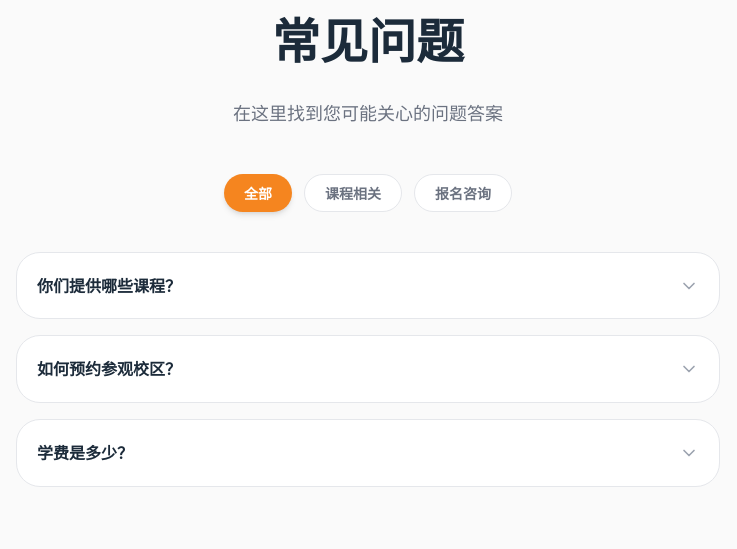
Test: FaqPage 页面 › 再次点击同一问题收起答案
Expected: the text "你们提供哪些课程？" is shown, left=37, top=273, right=181, bottom=298
Click the button "你们提供哪些课程？" at (109, 285), box left=17, top=253, right=719, bottom=318
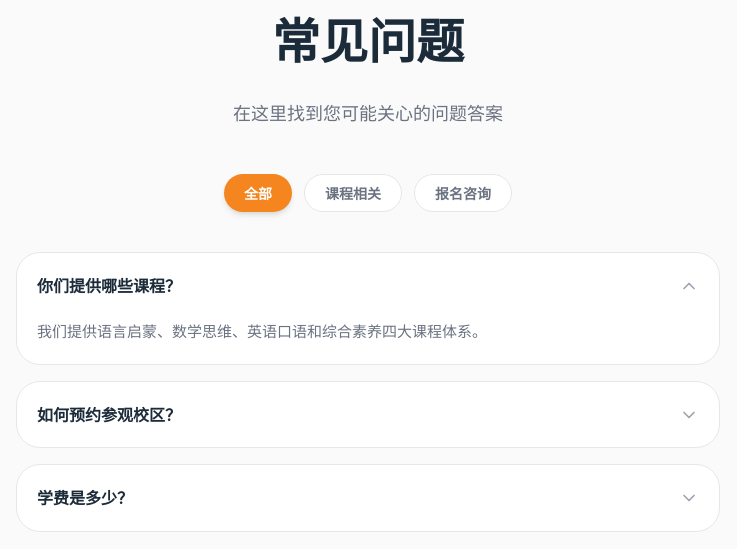
Expected: the text "我们提供语言启蒙、数学思维、英语口语和综合素养四大课程体系。" is shown, left=37, top=320, right=487, bottom=341
Click the button "你们提供哪些课程？" at (109, 285), box left=17, top=253, right=719, bottom=318
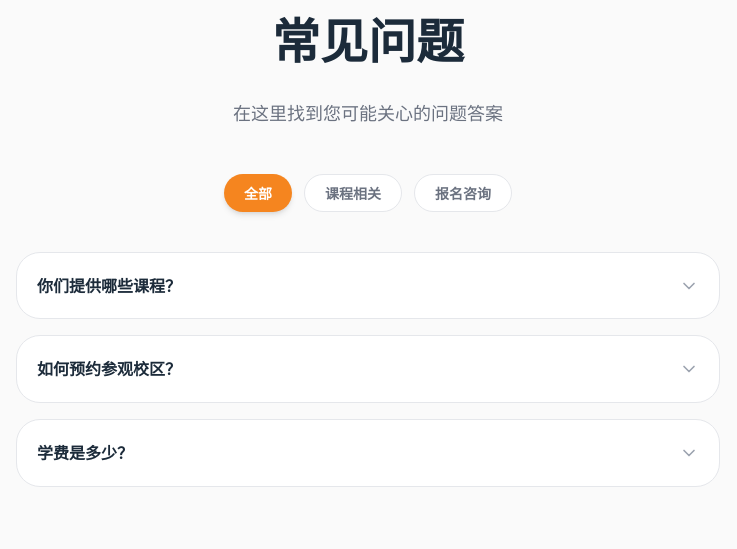
Expected: the text "语言启蒙、数学思维" is gone
